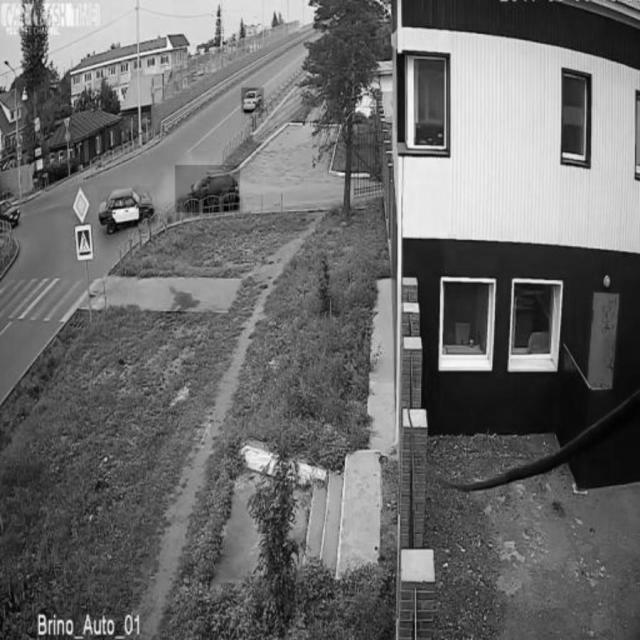vehicle: (175, 165, 239, 212), (98, 187, 158, 234), (0, 199, 24, 224), (242, 88, 264, 113)
